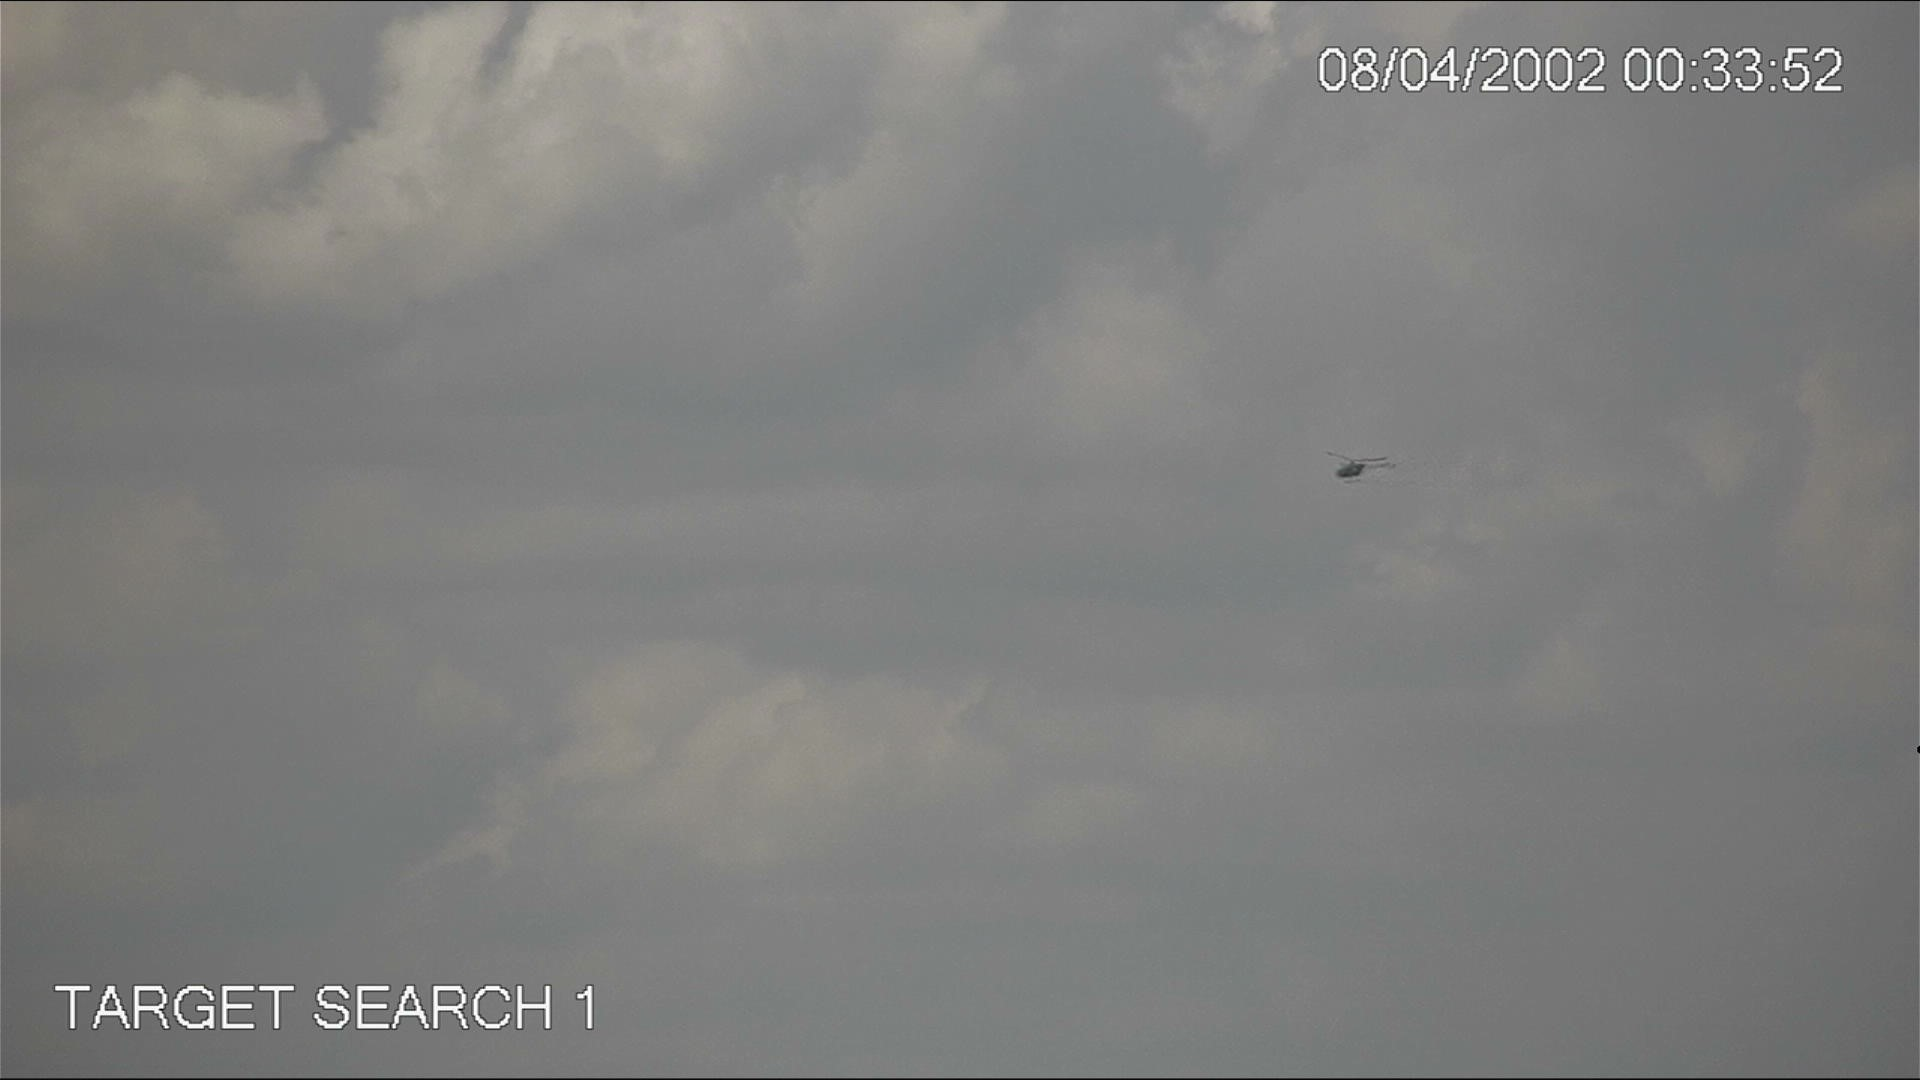SU_30: (1327, 444, 1395, 489)
